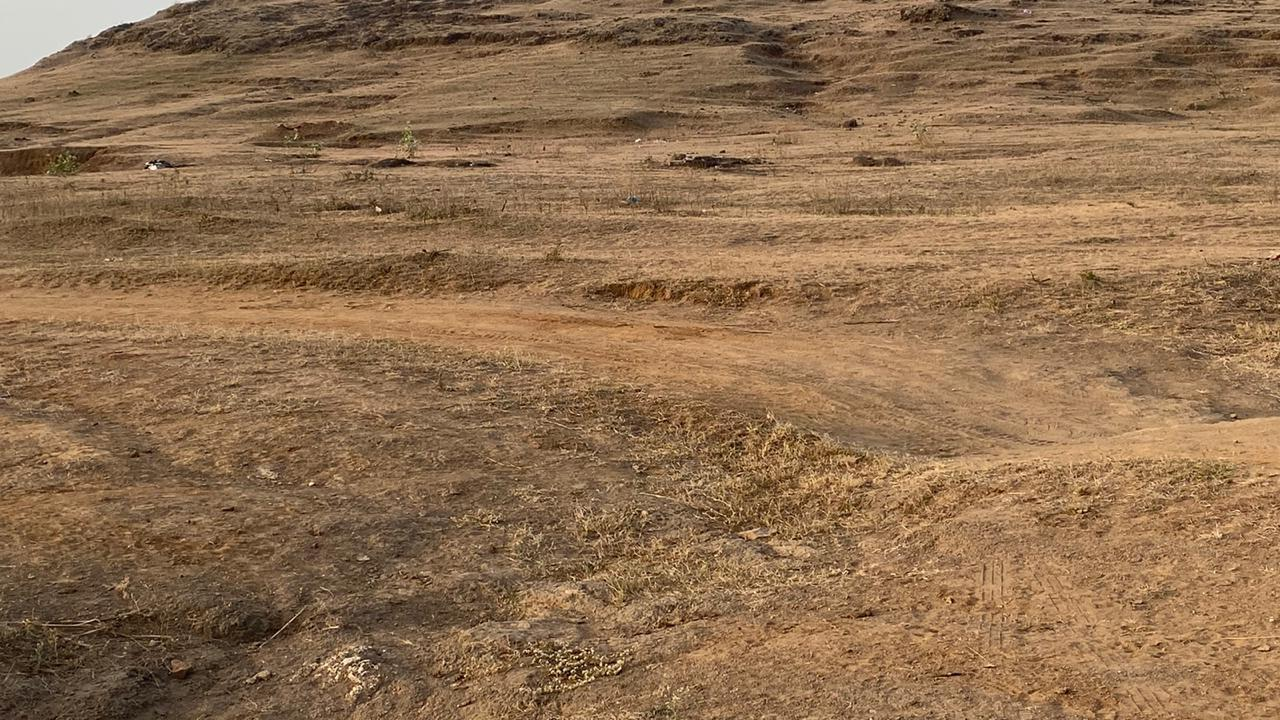vehicle_track: (0, 294, 1149, 457)
